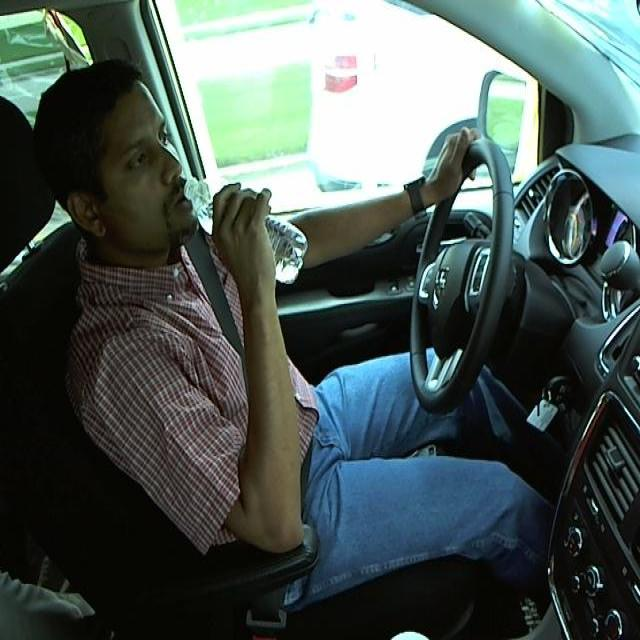Seatbelt: (179, 177, 308, 279)
